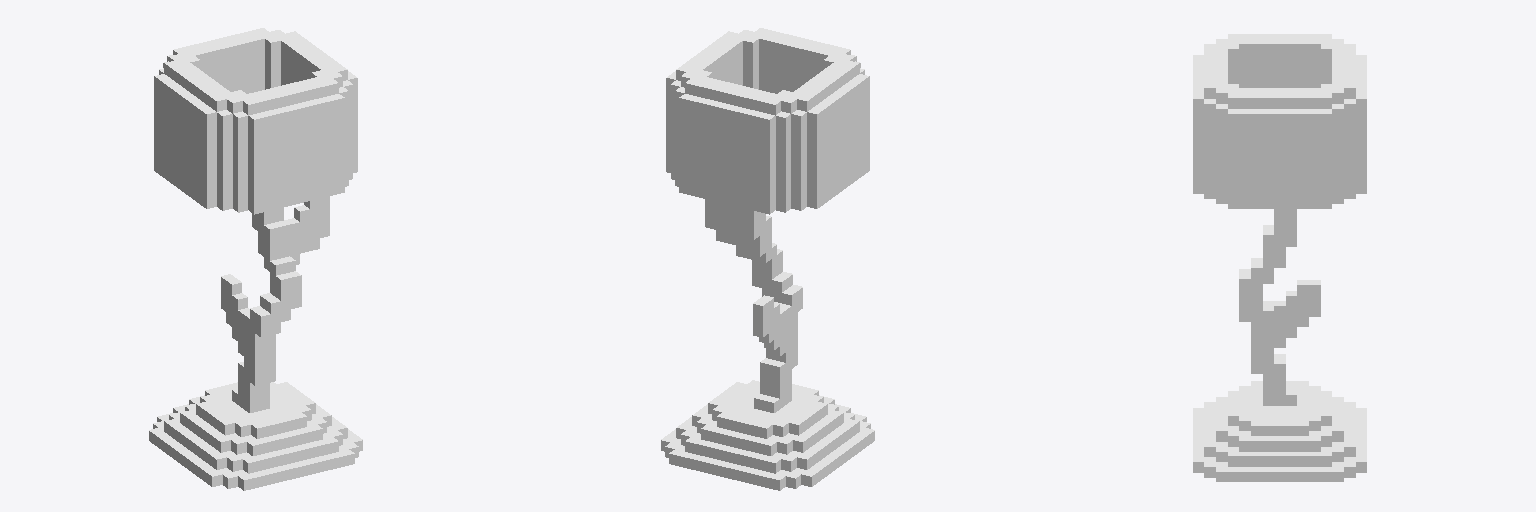
The model's file is LampPlant.obj.
3 renders of one model, left to right at view 1: azimuth 30°, elevation 25°; view 2: azimuth 150°, elevation 25°; view 3: azimuth 270°, elevation 25°, orthographic.
Visible parts, largest first — view 1: LampPlant; view 2: LampPlant; view 3: LampPlant.
Part boxes in pixels (left/top/right/bottom): LampPlant: left=149, top=28, right=362, bottom=490; LampPlant: left=661, top=28, right=874, bottom=490; LampPlant: left=1193, top=34, right=1366, bottom=481.
Bounding box in the file's own units: 15 × 36 × 15.